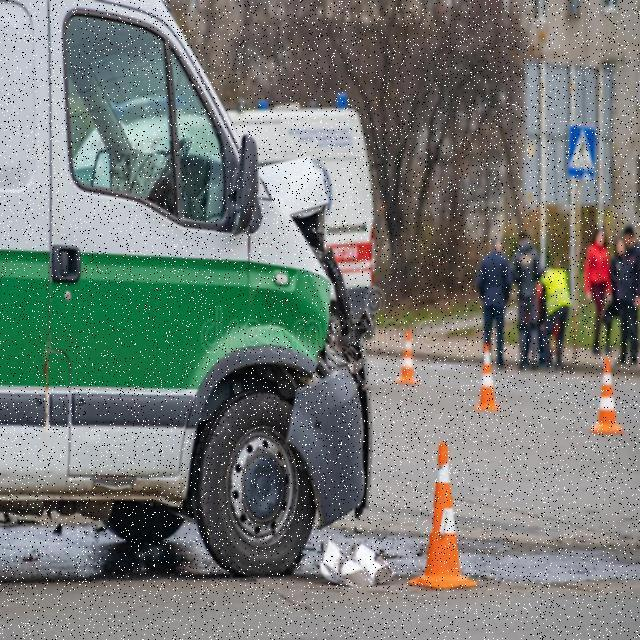front-bumper-dent: (296, 258, 388, 549)
